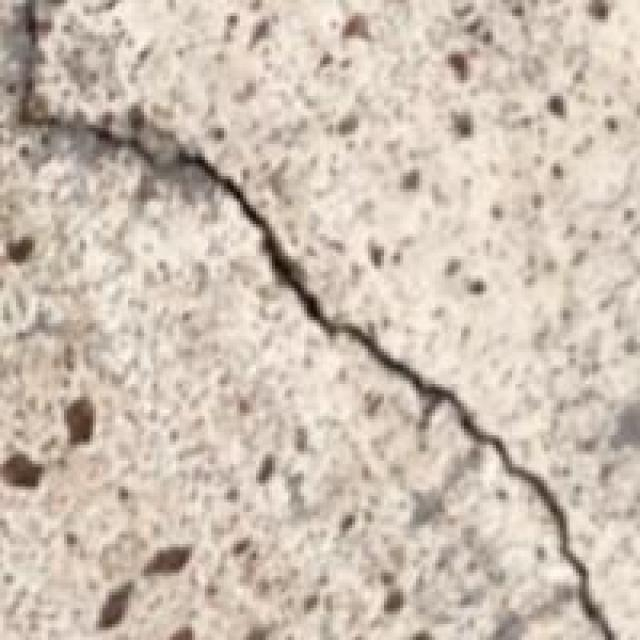Crack: (3, 0, 630, 637)
